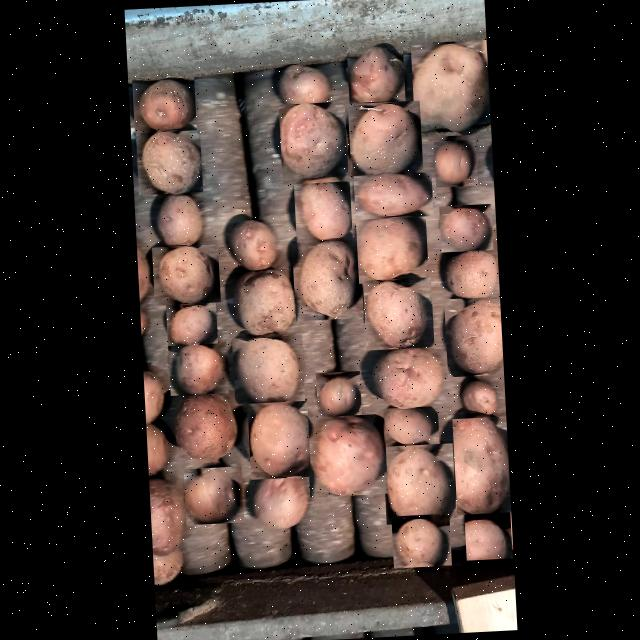Defected potato: (274, 58, 330, 106)
Diseased-fungal potato: (410, 40, 490, 138), (305, 414, 387, 498), (382, 443, 456, 525), (291, 238, 363, 321), (452, 416, 511, 516), (278, 102, 348, 185), (166, 391, 240, 464), (362, 278, 434, 350), (246, 399, 310, 480), (231, 335, 304, 405), (355, 216, 428, 284), (443, 296, 503, 378), (365, 348, 443, 411), (230, 268, 298, 338), (135, 130, 202, 195), (151, 244, 220, 306), (250, 471, 310, 540), (293, 176, 352, 243), (131, 74, 196, 134), (352, 172, 432, 220), (182, 466, 244, 526), (438, 246, 499, 302), (167, 341, 228, 396), (390, 514, 451, 568), (151, 190, 204, 250), (226, 217, 284, 270), (438, 204, 492, 253), (378, 406, 438, 447), (464, 512, 512, 560), (165, 302, 217, 346), (315, 371, 361, 419), (433, 140, 477, 188), (456, 380, 499, 418)
Sprouted potato: (347, 100, 422, 178), (346, 40, 404, 109)
